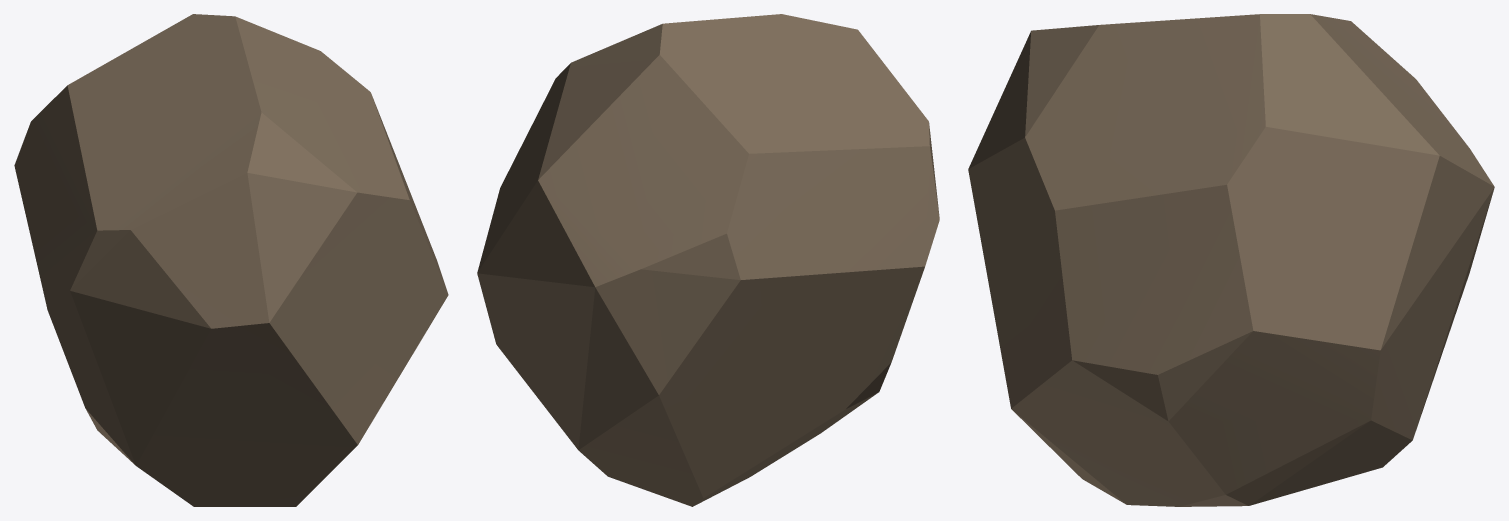
The model's file is Rock_5.fbx.
3 renders of one model, left to right at view 1: azimuth 30°, elevation 25°; view 2: azimuth 150°, elevation 25°; view 3: azimuth 270°, elevation 25°, orthographic. The views are drawn at different scales.
Visible parts, largest first — view 1: Rock_5; view 2: Rock_5; view 3: Rock_5.
Part boxes in pixels (box(x1,y1,x2,y2)): Rock_5: box(14, 14, 448, 506); Rock_5: box(477, 14, 939, 506); Rock_5: box(968, 14, 1494, 506).
Bounding box in the file's own units: 80.38 × 89.01 × 85.01.
